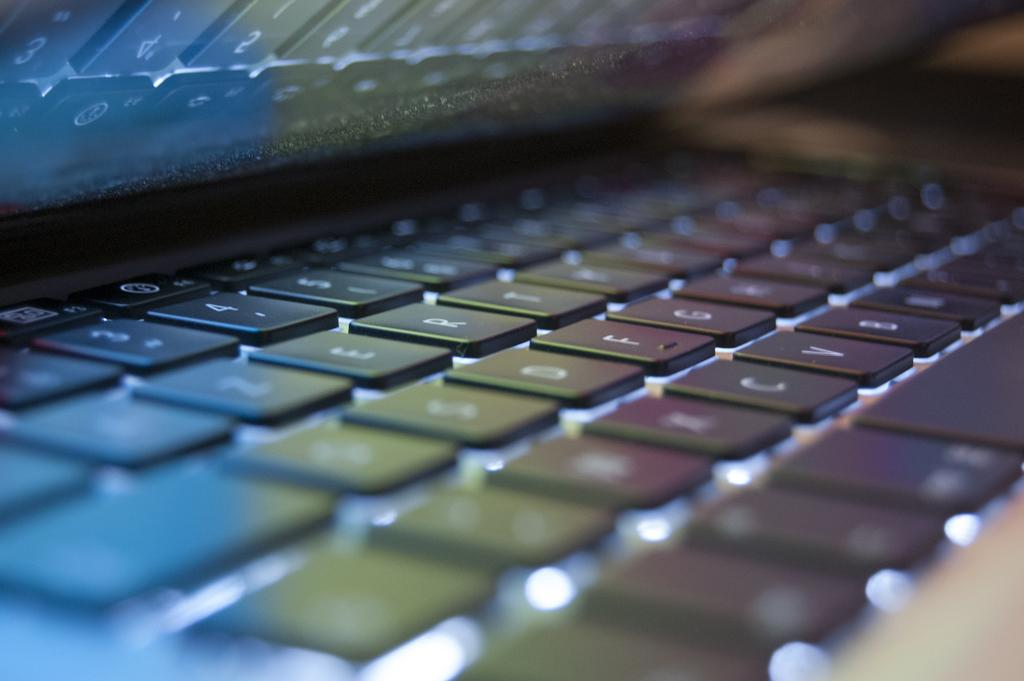Computer-keyboard: (0, 130, 1023, 680)
Laptop: (0, 0, 1023, 680)
